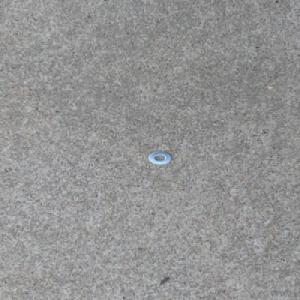Washer: (147, 150, 172, 165)
